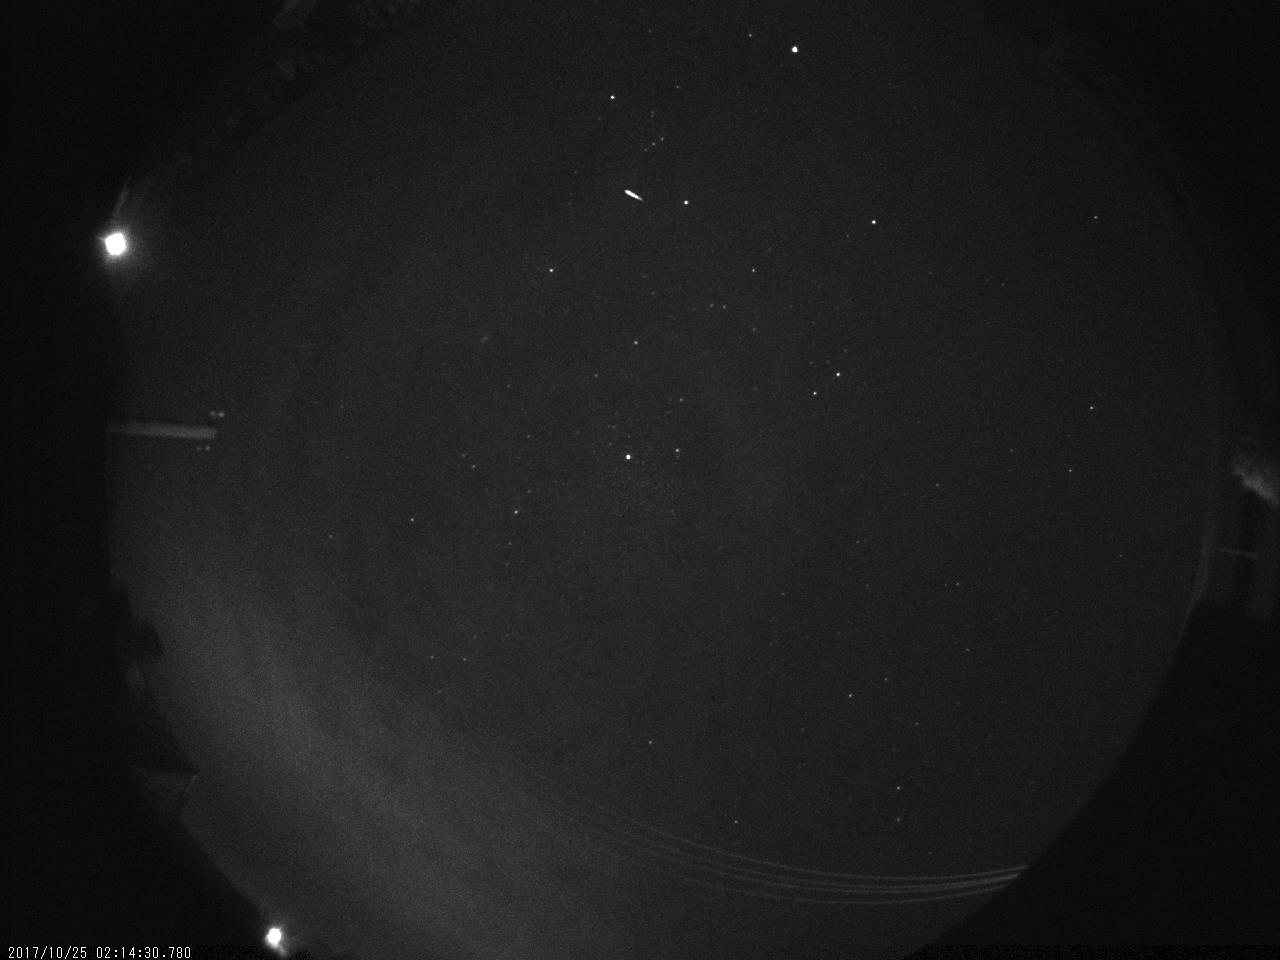meteor: (610, 173, 660, 216)
